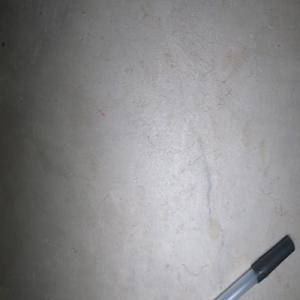Pen: (215, 234, 294, 300)
